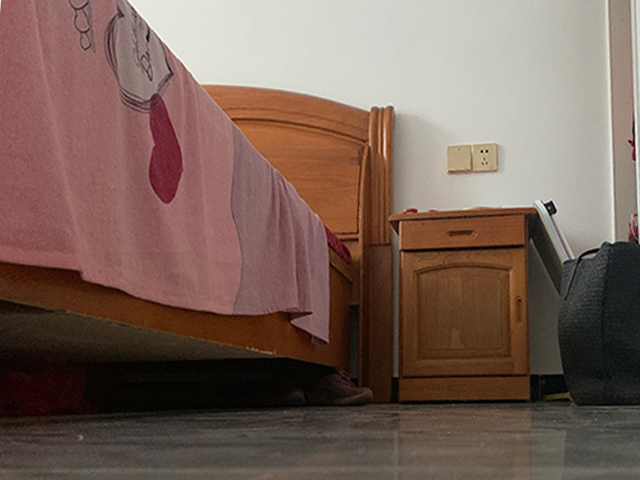bed: (1, 1, 393, 405)
cabinet: (388, 207, 539, 402)
